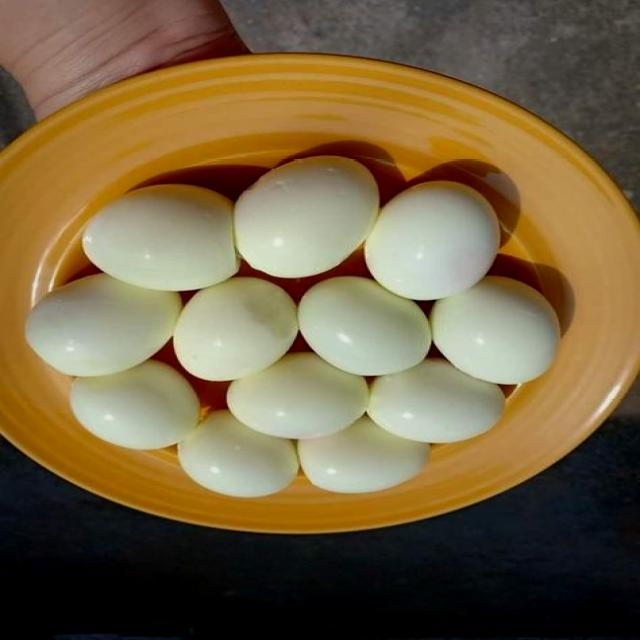telur rebus: (230, 149, 385, 282), (81, 178, 240, 290), (363, 177, 502, 300), (26, 270, 182, 377), (429, 271, 560, 385), (296, 271, 433, 377), (173, 273, 298, 381), (367, 356, 513, 443), (225, 351, 370, 438), (69, 356, 201, 450), (177, 409, 298, 497), (298, 414, 431, 492)
